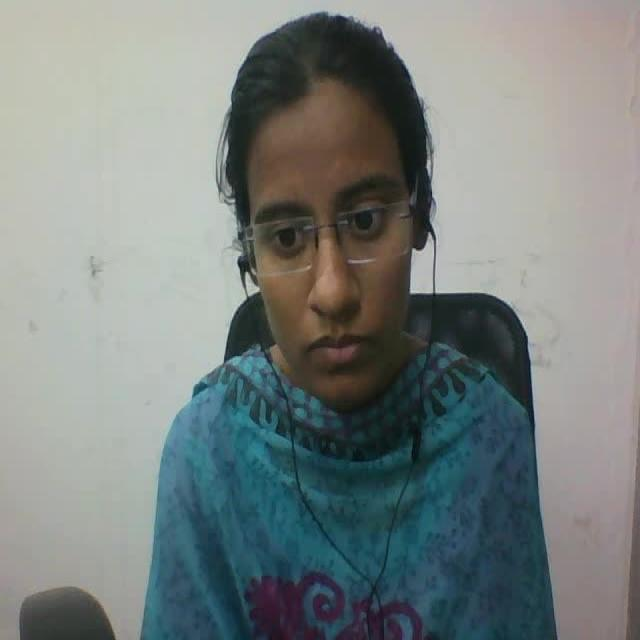Engaged: (195, 0, 469, 412)
